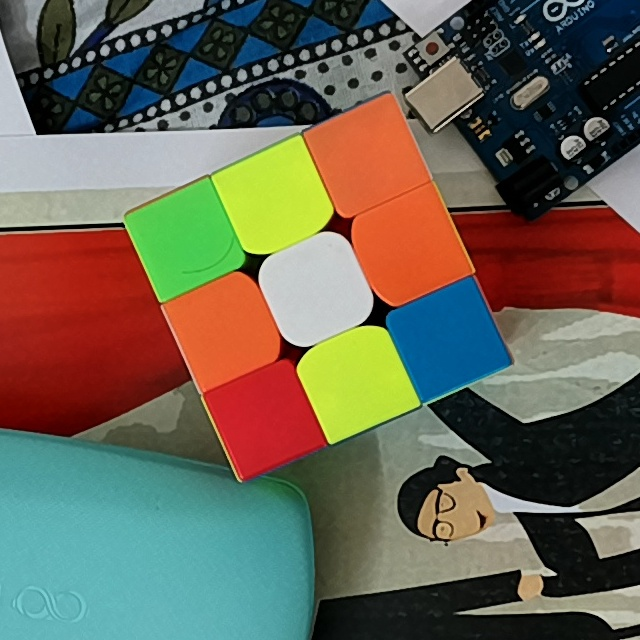tile: (280, 252, 354, 325), (332, 120, 405, 191), (187, 294, 260, 365), (415, 303, 485, 377), (227, 384, 299, 454), (239, 165, 312, 233), (149, 204, 216, 277), (378, 209, 445, 281), (324, 343, 391, 415)
